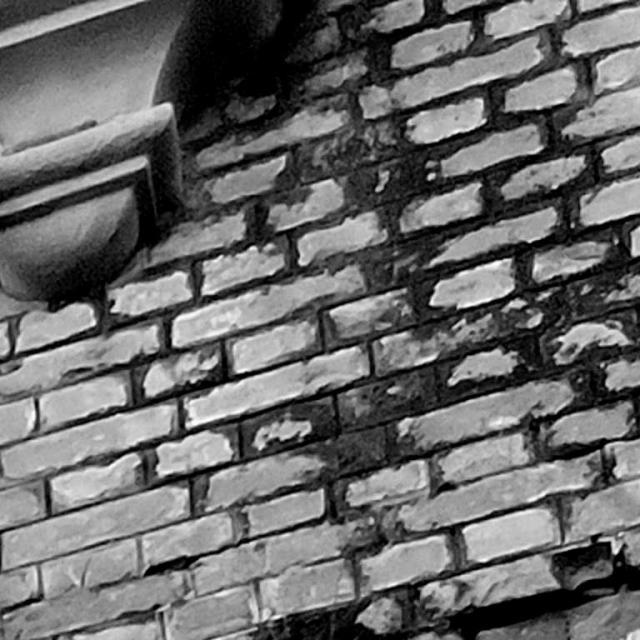crack: (446, 550, 640, 640)
